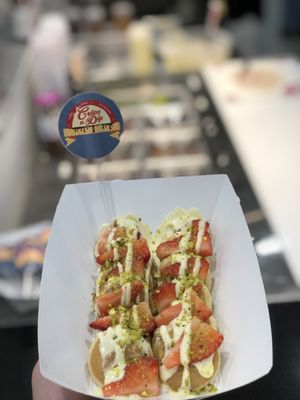soup: (86, 207, 223, 398)
